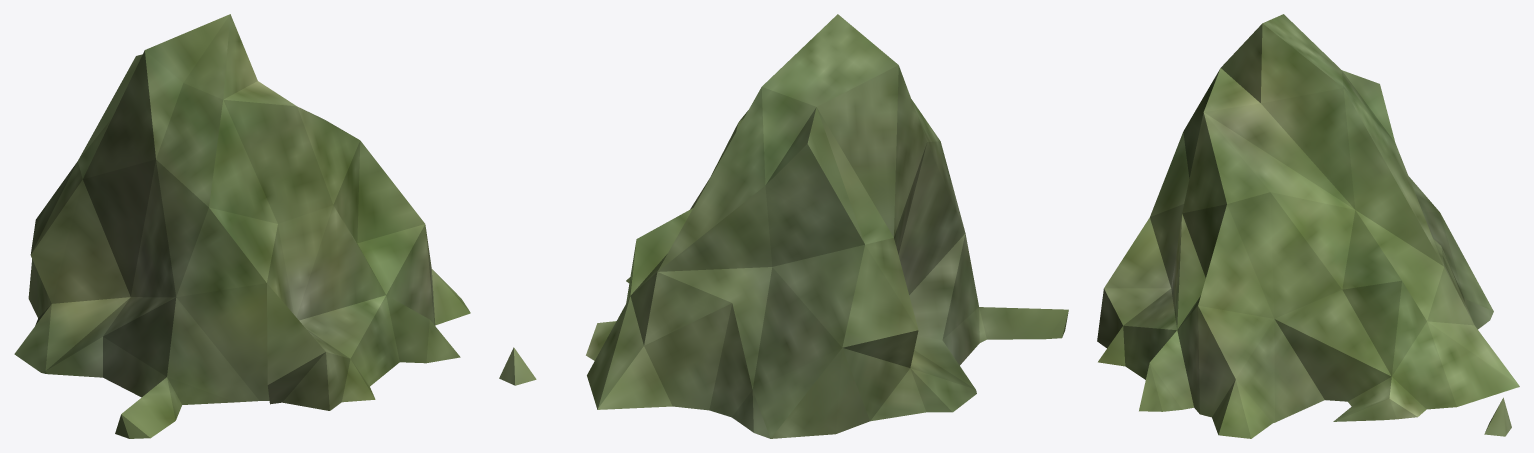
3 renders of one model, left to right at view 1: azimuth 30°, elevation 25°; view 2: azimuth 150°, elevation 25°; view 3: azimuth 270°, elevation 25°, orthographic. The views are drawn at different scales.
Bounding box in the file's own units: 2.35 × 1.88 × 2.3.
1 material, 1 textured.
